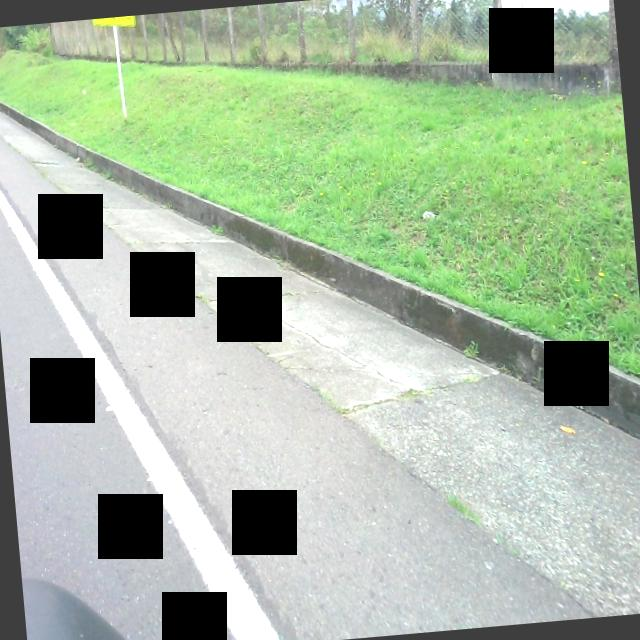DITCH: (0, 37, 640, 640), (0, 129, 640, 640)
